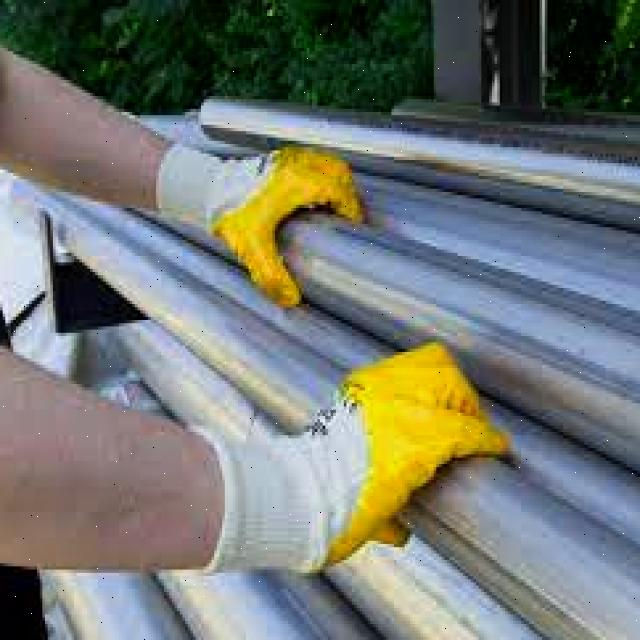Gloves: (212, 346, 509, 572), (157, 147, 362, 306)
